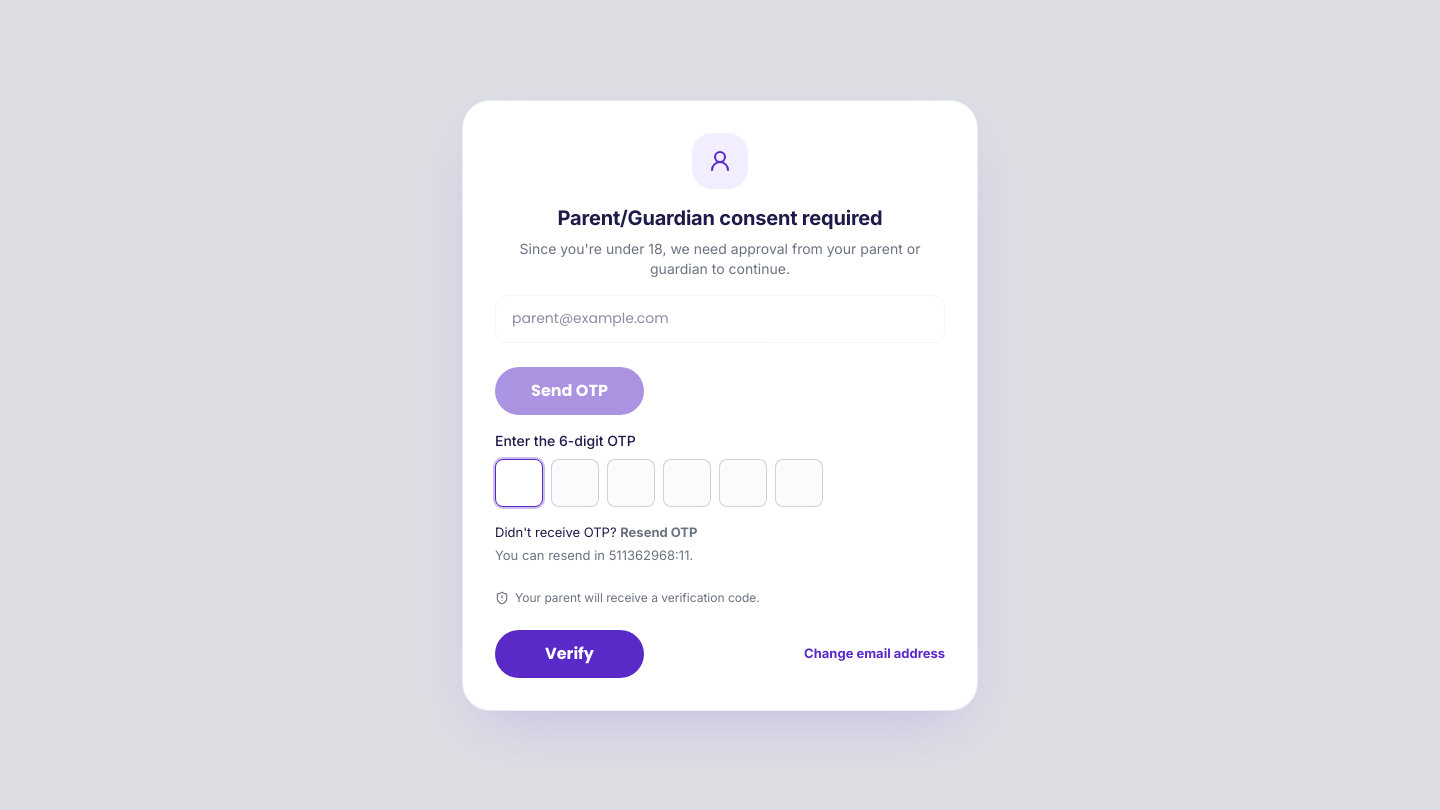
Scenario: GuardianConsentModal — OTP focus and button loading states › focuses the first OTP box on Verify instead of doing nothing when the code is empty
The image size is (1440, 810).
Click the button "Verify": [570, 654] box [495,630,644,678]
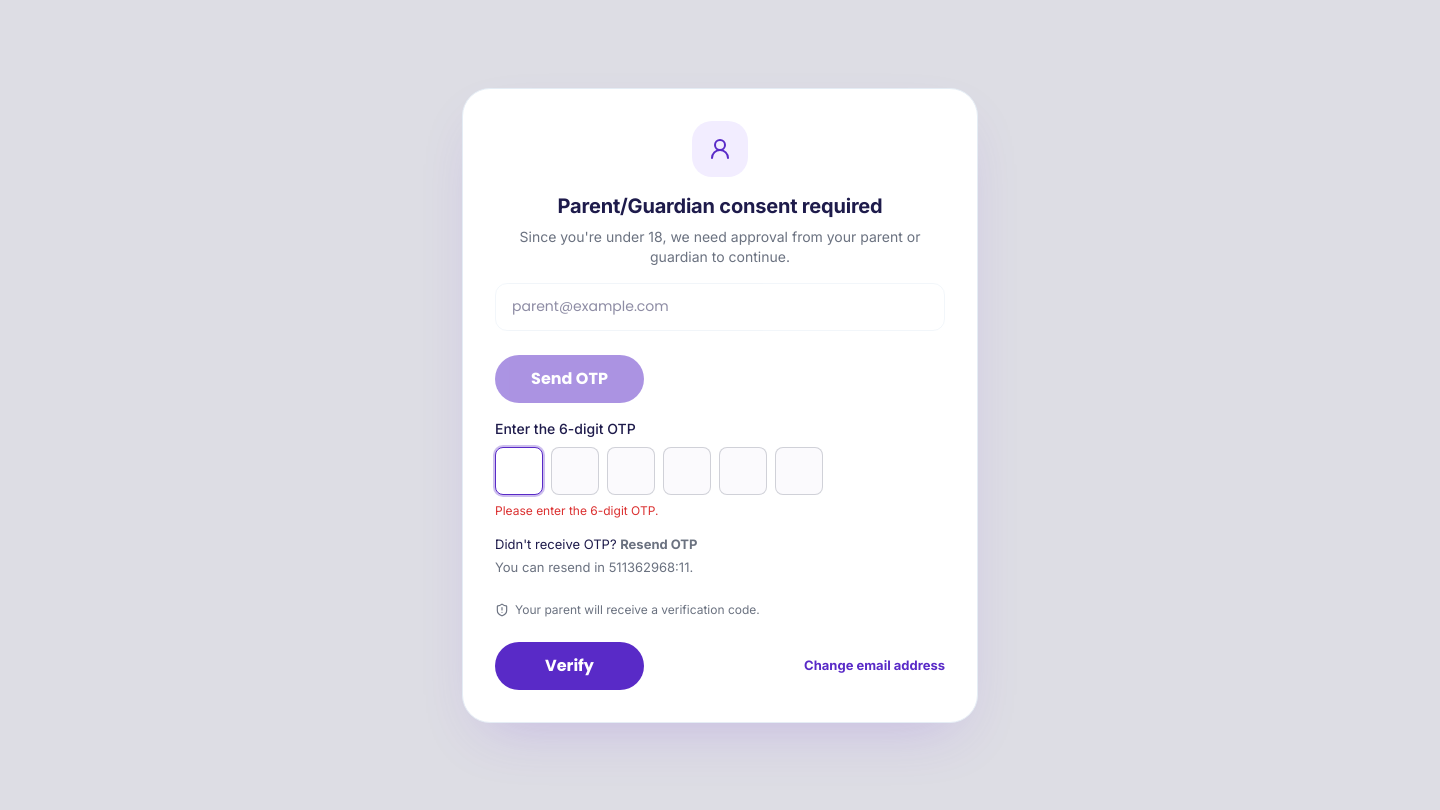
Expected: the text "Please enter the 6-digit OTP." is shown, [495,502,658,518]
